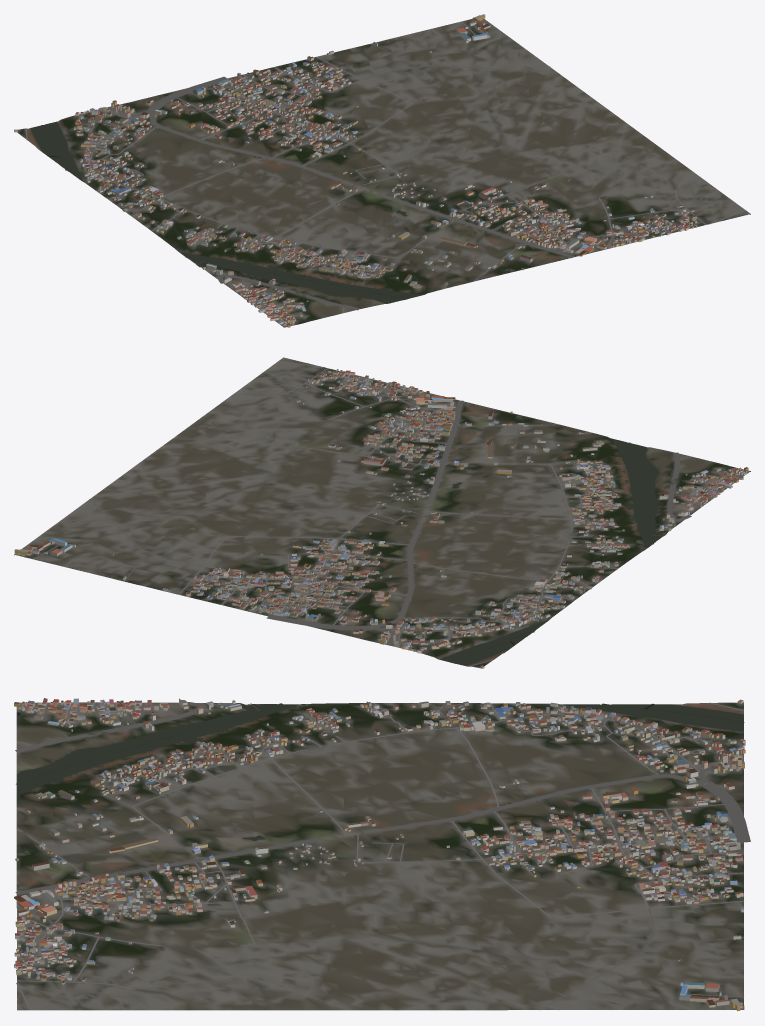
The picture shows the model from 3 angles, top to bottom: view 1: azimuth 30°, elevation 25°; view 2: azimuth 150°, elevation 25°; view 3: azimuth 270°, elevation 25°; orthographic projection. The views are drawn at different scales.
Parts seen in each view (by area): view 1: ground, buildings, roads, water; view 2: ground, buildings, roads, water; view 3: ground, buildings, roads, water.
Boxes of the visible parts, x1,y1,x2,y2 form: ground: [17, 19, 750, 327]; buildings: [14, 14, 697, 327]; roads: [25, 21, 745, 324]; water: [30, 121, 421, 323]; ground: [14, 357, 750, 668]; buildings: [14, 369, 748, 668]; roads: [33, 361, 742, 666]; water: [440, 438, 735, 665]; ground: [16, 702, 744, 1010]; buildings: [14, 698, 745, 1011]; roads: [15, 702, 750, 1010]; water: [16, 703, 744, 840].
Bounding box in the file's own units: 1415 × 26.21 × 1421.
